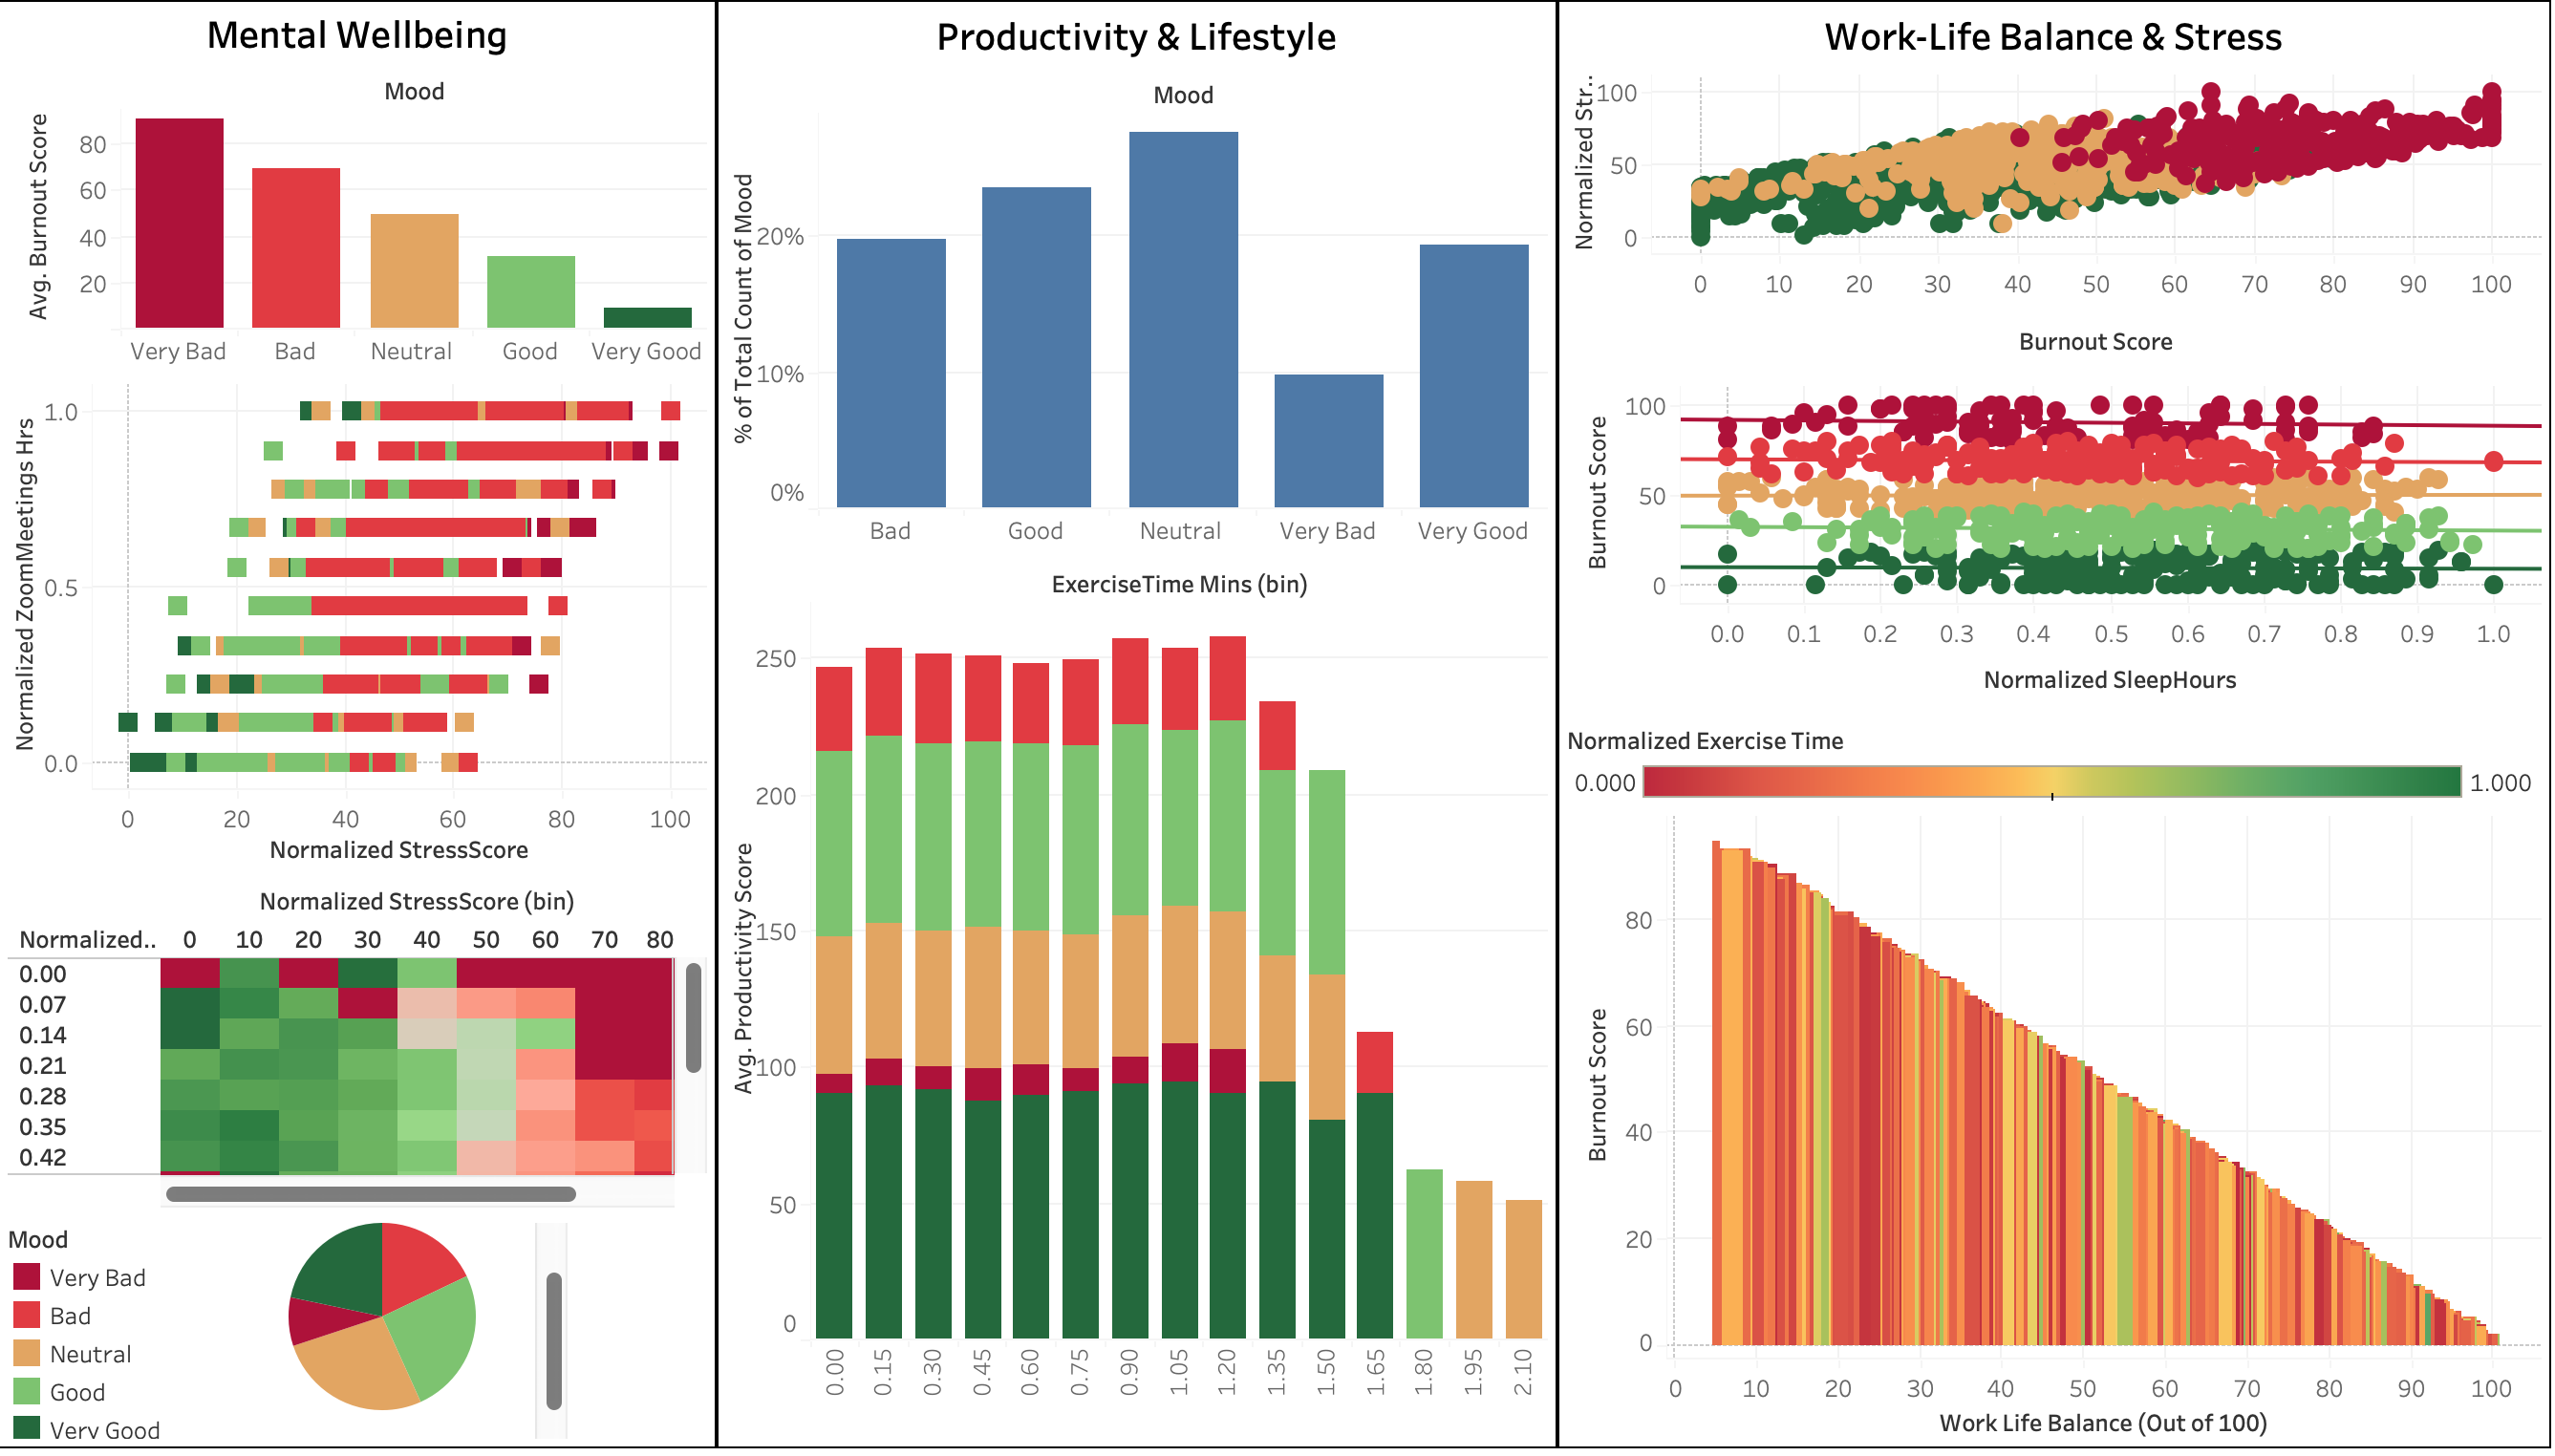

What the dashboard file says about the page in this screenshot:
{"tool":"tableau","page":{"name":"Dashboard 1","canvas":[1000,1000],"units":"permille","ordinal":0},"visuals":[{"type":"text","box":[7.9,14.6,276,52]},{"type":"text","box":[285.7,14.6,322.6,55.2]},{"type":"text","box":[610.1,14.6,382,55.2]},{"type":"worksheet","title":"Avg Burout vs Mood","mark":"Automatic","rows":["Burnout_Score"],"cols":["Mood"],"box":[7.9,66.6,276,266.2]},{"type":"worksheet","title":"Mood %","mark":"Automatic","rows":["Mood"],"cols":["Mood"],"box":[285.7,69.8,322.6,415.6]},{"type":"worksheet","title":"Cluster of People based on similar burnout pattern","mark":"Circle","rows":["Normalized_StressScore"],"cols":["Burnout_Score"],"box":[610.1,69.8,382,264.6]},{"type":"worksheet","title":"How sleep hours impact burnout scores","mark":"Square","rows":["Normalized_ZoomMeetings_Hrs"],"cols":["Normalized_StressScore"],"box":[7.9,332.8,276,194.8]},{"type":"worksheet","title":"How sleep Time affects Burnout Score","mark":"Circle","rows":["Burnout_Score"],"cols":["Normalized_SleepHours"],"box":[610.1,334.4,382,287.3]},{"type":"worksheet","title":"Whether more exercise means better productivity","mark":"Automatic","rows":["Productivity_Score"],"cols":["ExerciseTime Mins (bin)"],"box":[285.7,485.4,322.6,500]},{"type":"worksheet","title":"Identify patterns in how screen time and stress affect work-life balance (WLB)","mark":"Automatic","rows":["Normalized Screen Time hrs (bin)"],"cols":["Normalized StressScore (bin)"],"box":[7.9,527.6,276,263]},{"type":"legend","title":"Work-Life Balance vs Burnout","param":"[federated.0xjywi61jx1tt510c2m2h1hhd65t].[sum:Normalized_Exercise_Time:qk]","box":[610.1,621.8,382,77.9]},{"type":"worksheet","title":"Work-Life Balance vs Burnout","mark":"Bar","rows":["Burnout_Score"],"cols":["Work_Life_Balance (Out of 100)"],"box":[610.1,699.7,382,285.7]},{"type":"legend","title":"Avg Burout vs Mood","param":"[federated.0xjywi61jx1tt510c2m2h1hhd65t].[none:Mood:nk]","box":[7.9,790.6,102.3,194.8]},{"type":"worksheet","title":"How Zoom Hrs and Sleep Time contribute to the mood","mark":"Pie","box":[110.2,790.6,163.1,194.8]}]}

Visuals, with their boxes on the dashboard's canvas, which has no fixed pixel size, in thousandths of its width and height (x1, y1, x2, y2). These are canvas units, not pixel positions in the 2555x1456 screenshot, which may show the page scaled, cropped or inside an application window:
text: select_region(8, 15, 284, 67)
text: select_region(286, 15, 608, 70)
text: select_region(610, 15, 992, 70)
"Avg Burout vs Mood" worksheet: select_region(8, 67, 284, 333)
"Mood %" worksheet: select_region(286, 70, 608, 485)
"Cluster of People based on similar burnout pattern" worksheet (Circle marks): select_region(610, 70, 992, 334)
"How sleep hours impact burnout scores" worksheet (Square marks): select_region(8, 333, 284, 528)
"How sleep Time affects Burnout Score" worksheet (Circle marks): select_region(610, 334, 992, 622)
"Whether more exercise means better productivity" worksheet: select_region(286, 485, 608, 985)
"Identify patterns in how screen time and stress affect work-life balance (WLB)" worksheet: select_region(8, 528, 284, 791)
"Work-Life Balance vs Burnout" legend: select_region(610, 622, 992, 700)
"Work-Life Balance vs Burnout" worksheet (Bar marks): select_region(610, 700, 992, 985)
"Avg Burout vs Mood" legend: select_region(8, 791, 110, 985)
"How Zoom Hrs and Sleep Time contribute to the mood" worksheet (Pie marks): select_region(110, 791, 273, 985)
